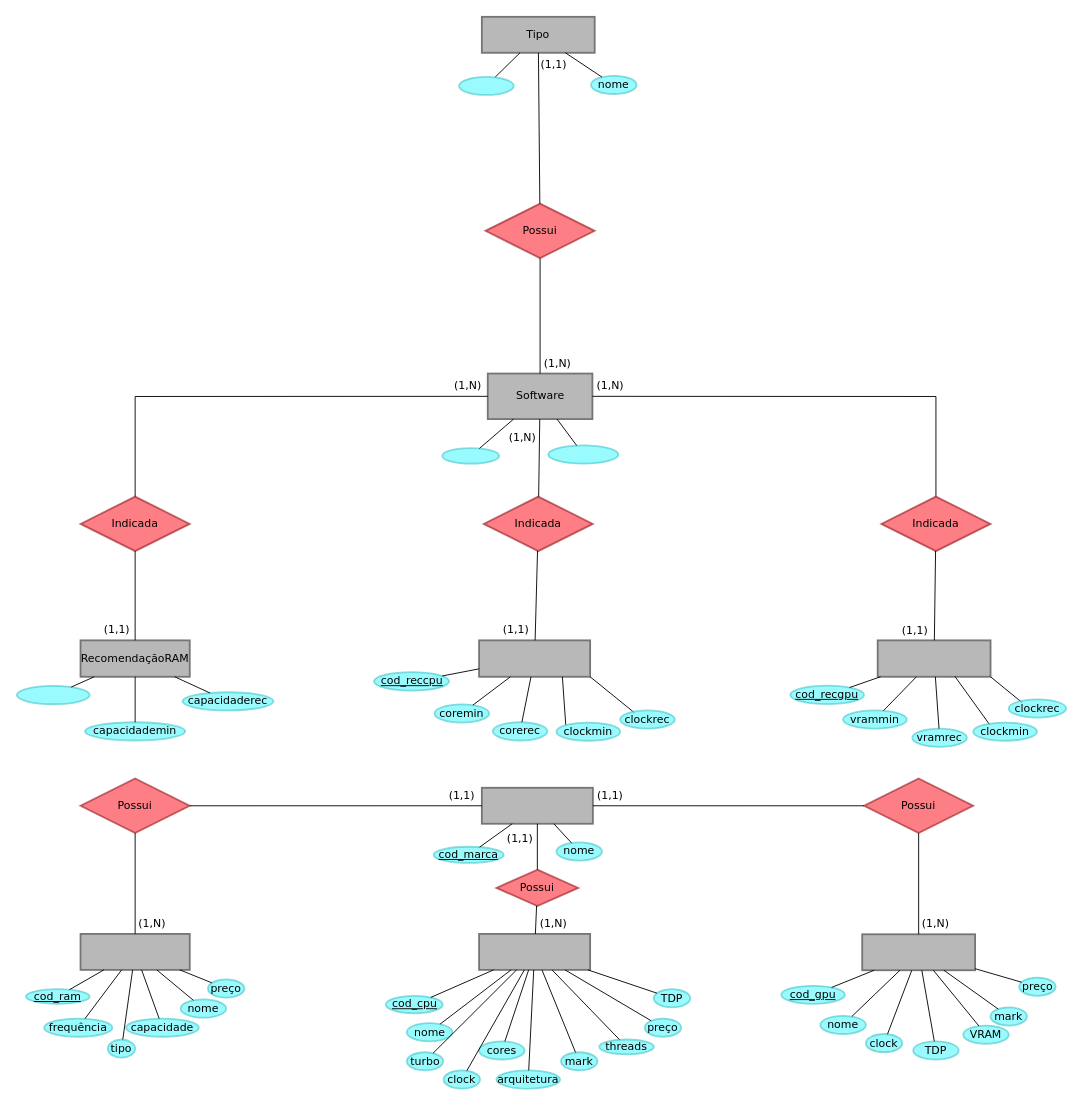
The diagram is 1082 pixels wide and 1105 high, and some of its shapes have lost their labels. Here are the shapes that lost their labels. From the top down, the centre of each, then its label:
At point 486,85: "cod_id".
At point 470,455: "cod_soft".
At point 583,454: "nome_soft".
At point 534,658: "RecomendaçãoCPU".
At point 933,658: "RecomendaçãoGPU".
At point 52,695: "cod_recram".
At point 536,805: "Marcas".
At point 134,951: "RAM".
At point 534,951: "Processador".
At point 918,952: "GPU".
